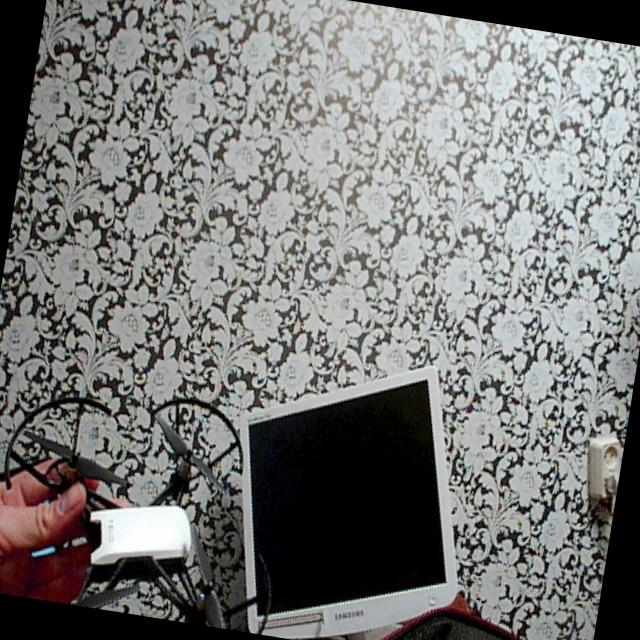drone: (0, 357, 308, 636)
